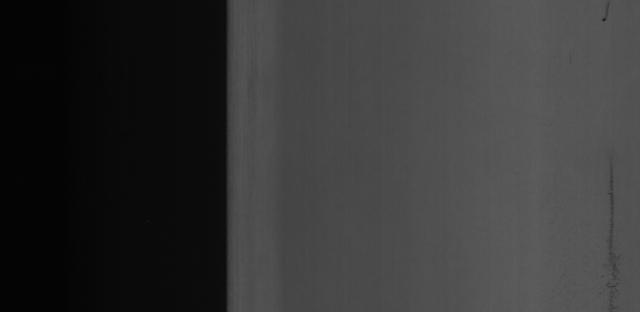inclusion: (601, 163, 625, 307), (597, 0, 615, 29)
